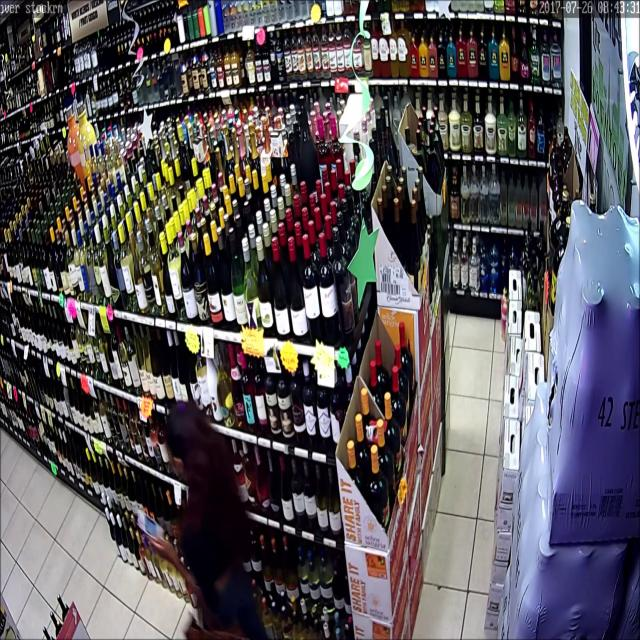normal: (132, 355, 265, 640)
